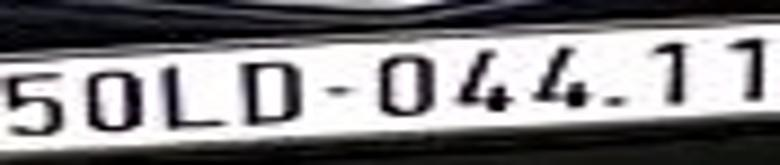-: (328, 86, 350, 97)
.: (604, 97, 622, 107)
0: (86, 72, 141, 132), (379, 54, 433, 115)
1: (736, 37, 765, 100), (658, 39, 686, 104)
4: (531, 45, 588, 110), (460, 47, 512, 113)
5: (6, 75, 62, 134)
D: (244, 64, 300, 123)
L: (163, 67, 225, 129)
